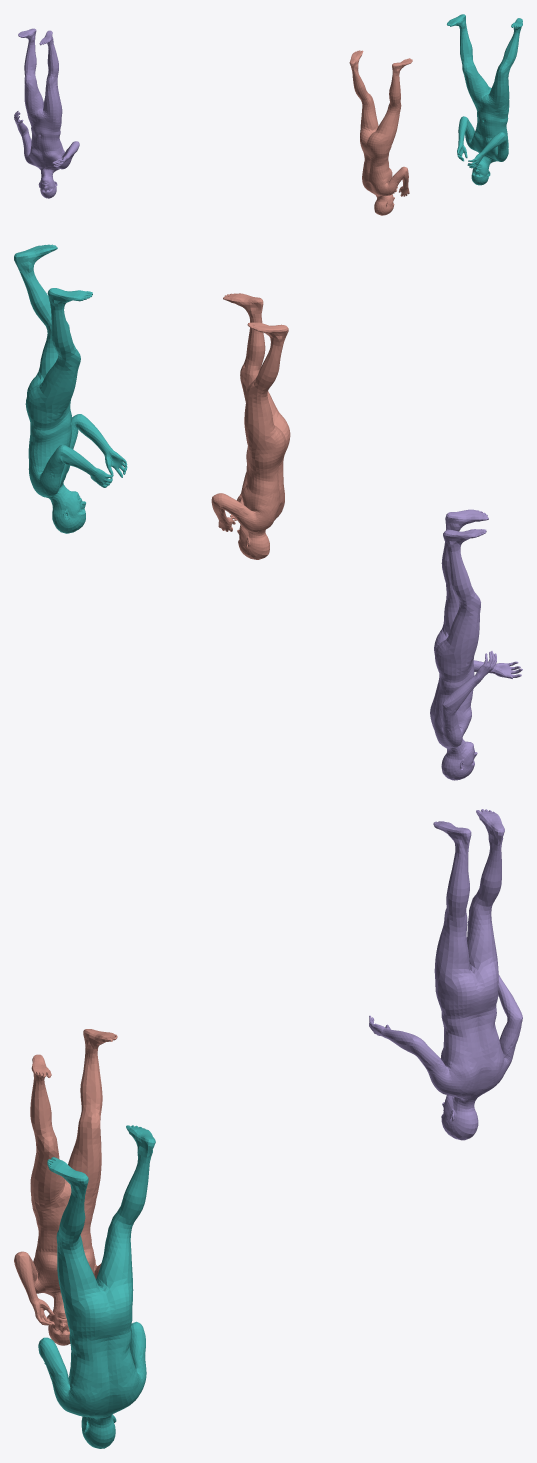
Rendered from all_people_native_world.glb.
The picture shows the model from 3 angles, top to bottom: view 1: azimuth 30°, elevation 25°; view 2: azimuth 150°, elevation 25°; view 3: azimuth 270°, elevation 25°; orthographic projection. The views are drawn at different scales.
Parts seen in each view (by area): view 1: persistent_id_1_slot_0, persistent_id_2_slot_2, persistent_id_0_slot_1; view 2: persistent_id_1_slot_0, persistent_id_0_slot_1, persistent_id_2_slot_2; view 3: persistent_id_1_slot_0, persistent_id_2_slot_2, persistent_id_0_slot_1.
Boxes of the visible parts, bbox=[...] form: persistent_id_1_slot_0: bbox=[447, 14, 522, 185]; persistent_id_2_slot_2: bbox=[14, 28, 79, 198]; persistent_id_0_slot_1: bbox=[349, 50, 412, 215]; persistent_id_1_slot_0: bbox=[14, 244, 127, 533]; persistent_id_0_slot_1: bbox=[211, 293, 290, 559]; persistent_id_2_slot_2: bbox=[430, 509, 522, 780]; persistent_id_1_slot_0: bbox=[38, 1125, 155, 1448]; persistent_id_2_slot_2: bbox=[369, 809, 522, 1140]; persistent_id_0_slot_1: bbox=[14, 1029, 117, 1345].
Size of the model in its own units: 4.55 by 1.78 by 2.64.
